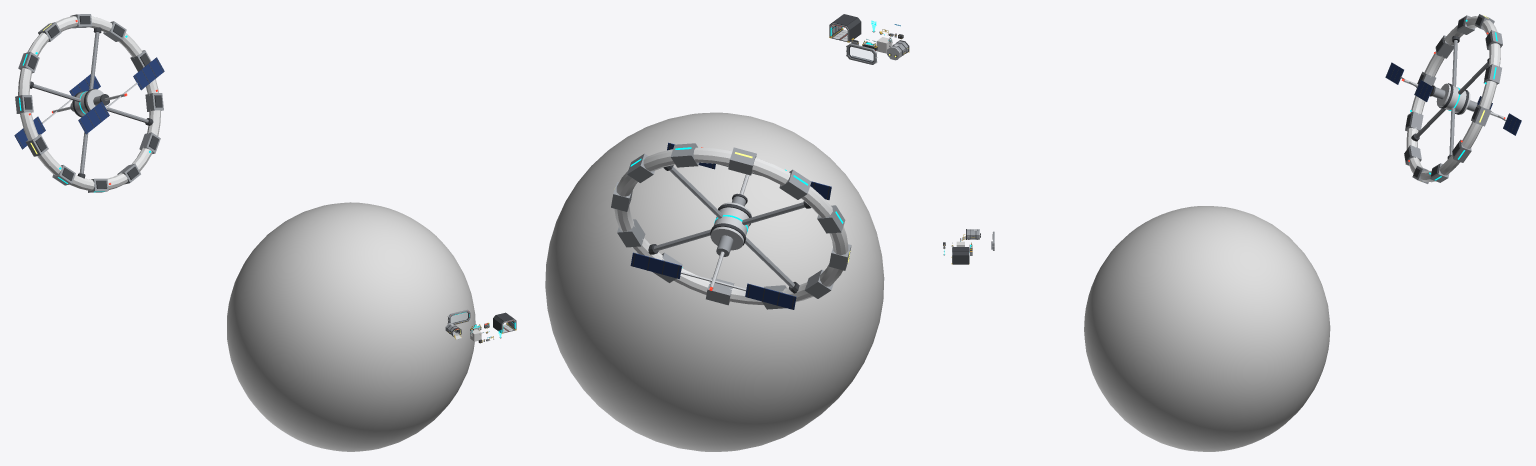
Rendered from FactoryVerse_AllModels.fbx.
3 renders of one model, left to right at view 1: azimuth 30°, elevation 25°; view 2: azimuth 150°, elevation 25°; view 3: azimuth 270°, elevation 25°, orthographic. The views are drawn at different scales.
Visible parts, largest first — view 1: Earth_Backdrop, Station_Exterior; view 2: Earth_Backdrop, Station_Exterior; view 3: Earth_Backdrop, Station_Exterior.
Part boxes in pixels (x1,y1,x2,y2): Earth_Backdrop: [227, 202, 475, 451]; Station_Exterior: [14, 14, 164, 192]; Earth_Backdrop: [545, 112, 884, 451]; Station_Exterior: [611, 142, 851, 309]; Earth_Backdrop: [1084, 206, 1330, 451]; Station_Exterior: [1385, 14, 1521, 183].
Bounding box in the file's own units: 8924 × 9362 × 14212.
